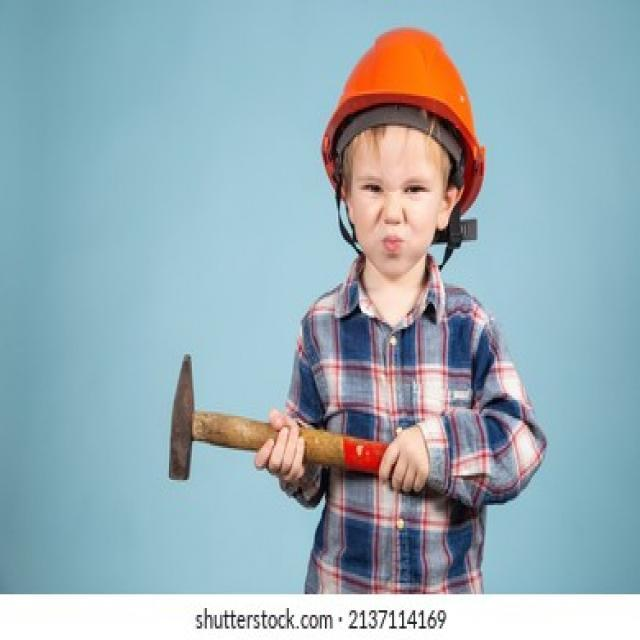hammer: (164, 346, 401, 525)
